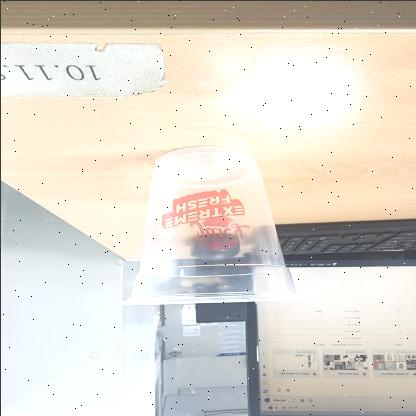Others: (115, 147, 308, 307)
